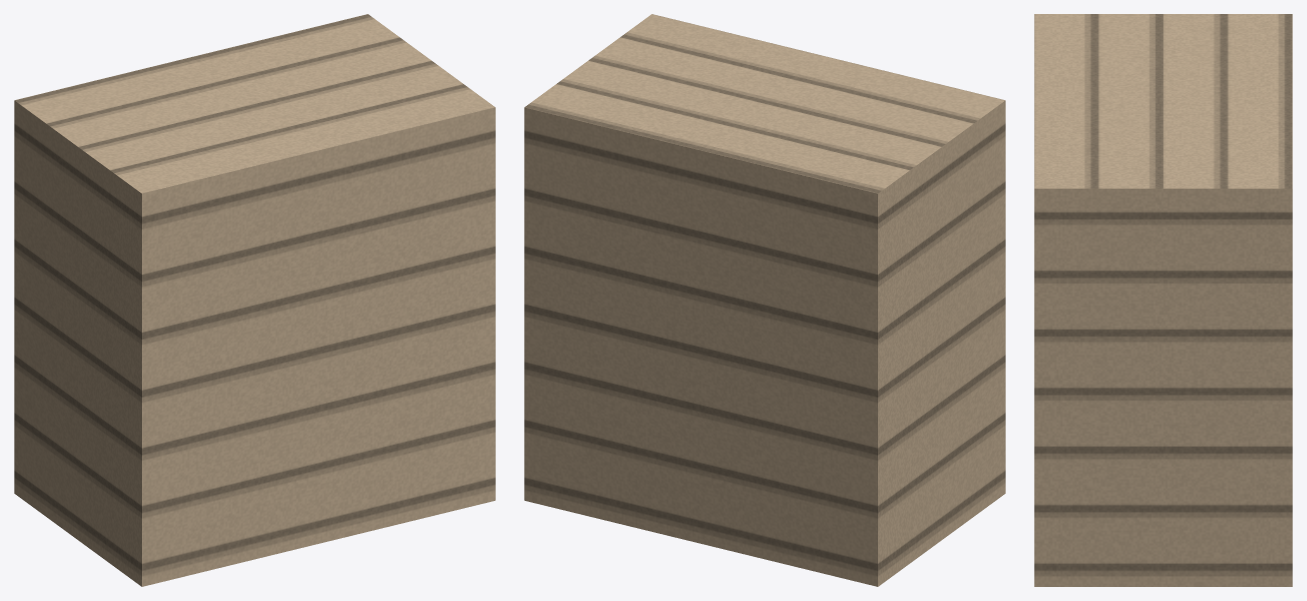
The model's file is book_repair_table_cart.glb.
3 views of the same model, side by side, from view 1: azimuth 30°, elevation 25°; view 2: azimuth 150°, elevation 25°; view 3: azimuth 270°, elevation 25° (orthographic).
Parts seen in each view (by area): view 1: book_repair_table_cart-col; view 2: book_repair_table_cart-col; view 3: book_repair_table_cart-col.
Boxes of the visible parts, left/top/right/bottom form: book_repair_table_cart-col: left=14, top=14, right=495, bottom=586; book_repair_table_cart-col: left=524, top=14, right=1005, bottom=586; book_repair_table_cart-col: left=1034, top=14, right=1292, bottom=586.
Bounding box in the file's own units: 0.8 × 0.85 × 0.5.
Materials: 1 (1 with a texture image).
